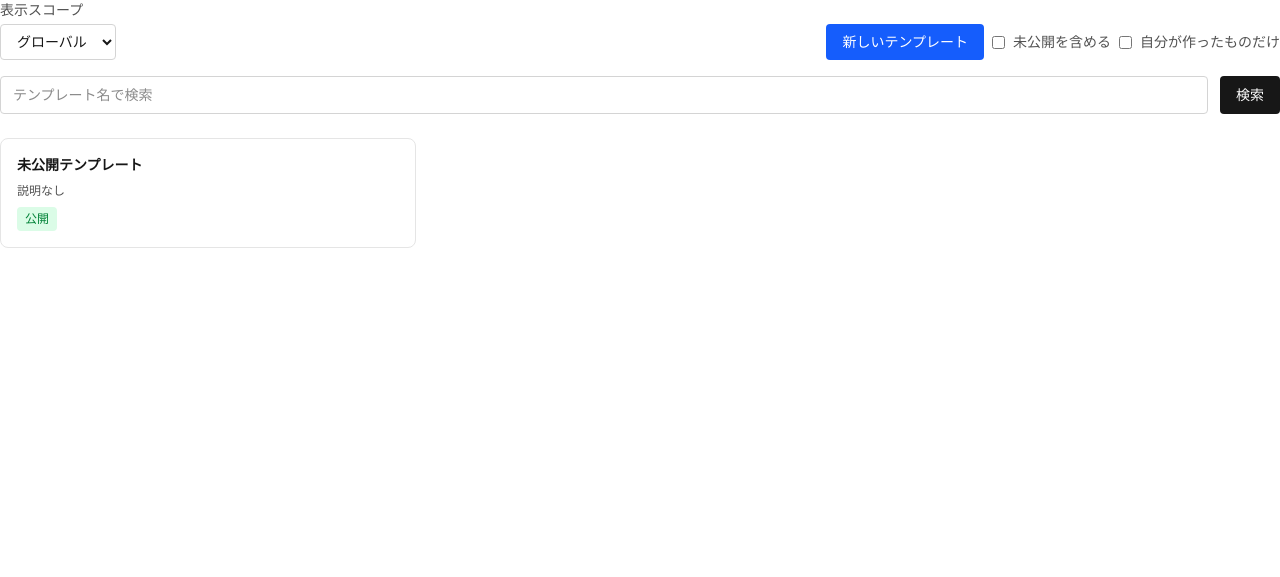
Test: CustomTagTemplateGallery 公開/非公開の切り替え › 公開済みのテンプレートの詳細には「非公開に戻す」だけが出る
Click the heading "未公開テンプレート". click: click(80, 165)
box: [17,157,143,173]
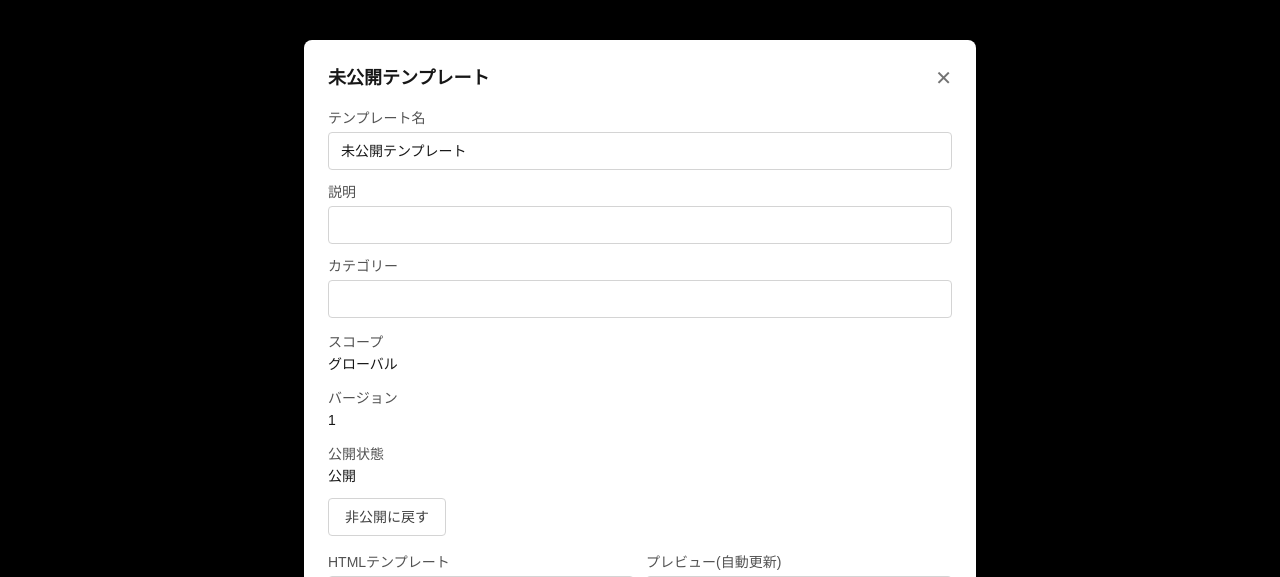
Check: the button "非公開に戻す" is shown, box [328,498,446,536]
